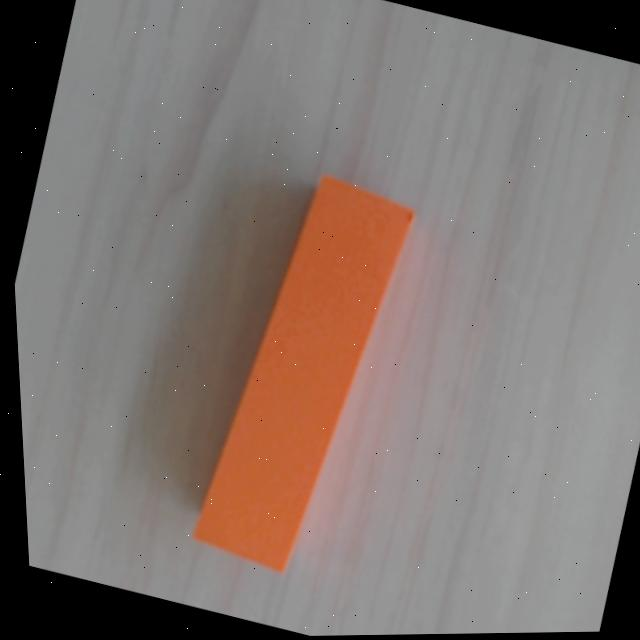Balok-Jingga-1002525: (188, 174, 415, 573)
